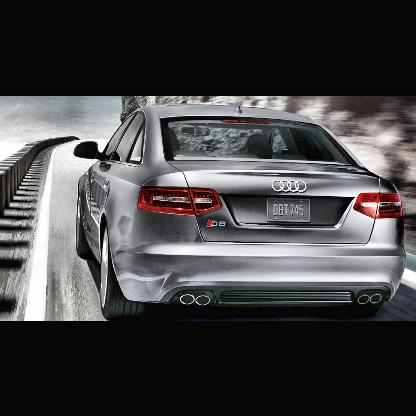Audi S6 Sedan 2011: (64, 98, 413, 320)
